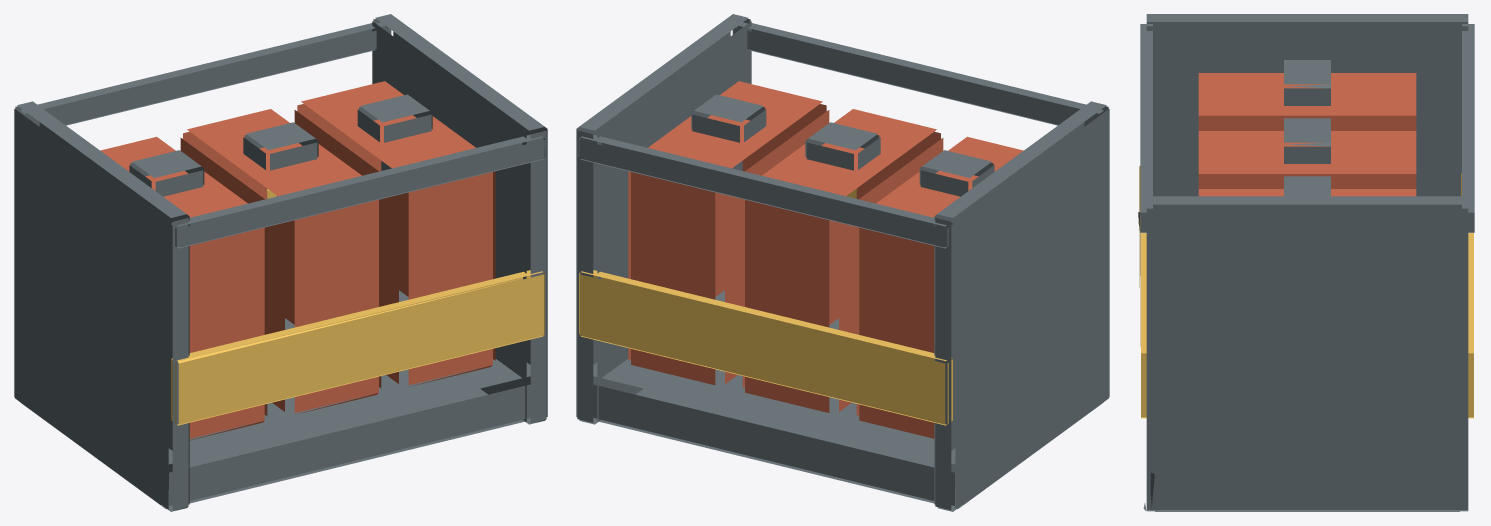
The model's file is fuelcrate.glb.
The picture shows the model from 3 angles, left to right: view 1: azimuth 30°, elevation 25°; view 2: azimuth 150°, elevation 25°; view 3: azimuth 270°, elevation 25°; orthographic projection. The views are drawn at different scales.
Parts seen in each view (by area): view 1: Cube.007, Cube, Cube.009, Cube.003, Cube.005, Cube.008, Cube.001, Cube.010, Cube.012, Cube.006, Cube.004, Cube.002; view 2: Cube.007, Cube, Cube.011, Cube.003, Cube.005, Cube.008, Cube.001, Cube.012, Cube.010, Cube.006, Cube.004, Cube.002; view 3: Cube.008, Cube.007, Cube, Cube.001, Cube.003, Cube.010, Cube.012, Cube.004, Cube.002, Cube.009, Cube.005, Cube.011 (+1 smaller).
Part boxes in pixels (left/top/right/bottom): Cube.007: left=14, top=101, right=189, bottom=511; Cube: left=15, top=290, right=530, bottom=509; Cube.009: left=171, top=270, right=544, bottom=425; Cube.003: left=180, top=109, right=381, bottom=414; Cube.005: left=294, top=81, right=495, bottom=386; Cube.008: left=372, top=14, right=547, bottom=424; Cube.001: left=100, top=136, right=267, bottom=440; Cube.010: left=170, top=134, right=545, bottom=248; Cube.012: left=20, top=22, right=391, bottom=126; Cube.006: left=357, top=94, right=432, bottom=142; Cube.004: left=243, top=122, right=318, bottom=170; Cube.002: left=129, top=150, right=204, bottom=196; Cube.007: left=934, top=101, right=1109, bottom=511; Cube: left=593, top=290, right=1108, bottom=509; Cube.011: left=579, top=270, right=952, bottom=425; Cube.003: left=742, top=109, right=943, bottom=412; Cube.005: left=628, top=81, right=829, bottom=385; Cube.008: left=576, top=14, right=751, bottom=424; Cube.001: left=856, top=136, right=1023, bottom=438; Cube.012: left=578, top=134, right=953, bottom=248; Cube.010: left=732, top=22, right=1103, bottom=126; Cube.006: left=691, top=94, right=766, bottom=142; Cube.004: left=805, top=122, right=880, bottom=170; Cube.002: left=919, top=150, right=994, bottom=196; Cube.008: left=1143, top=196, right=1468, bottom=511; Cube.007: left=1146, top=14, right=1468, bottom=196; Cube: left=1150, top=472, right=1459, bottom=511; Cube.001: left=1198, top=73, right=1416, bottom=130; Cube.003: left=1198, top=131, right=1416, bottom=188; Cube.010: left=1138, top=24, right=1152, bottom=232; Cube.012: left=1462, top=24, right=1474, bottom=232; Cube.004: left=1284, top=118, right=1330, bottom=163; Cube.002: left=1284, top=60, right=1330, bottom=105; Cube.009: left=1139, top=166, right=1146, bottom=418; Cube.005: left=1198, top=189, right=1416, bottom=196; Cube.011: left=1461, top=173, right=1473, bottom=418.
Bounding box in the file's own units: 2.2 × 1.6 × 1.6.
